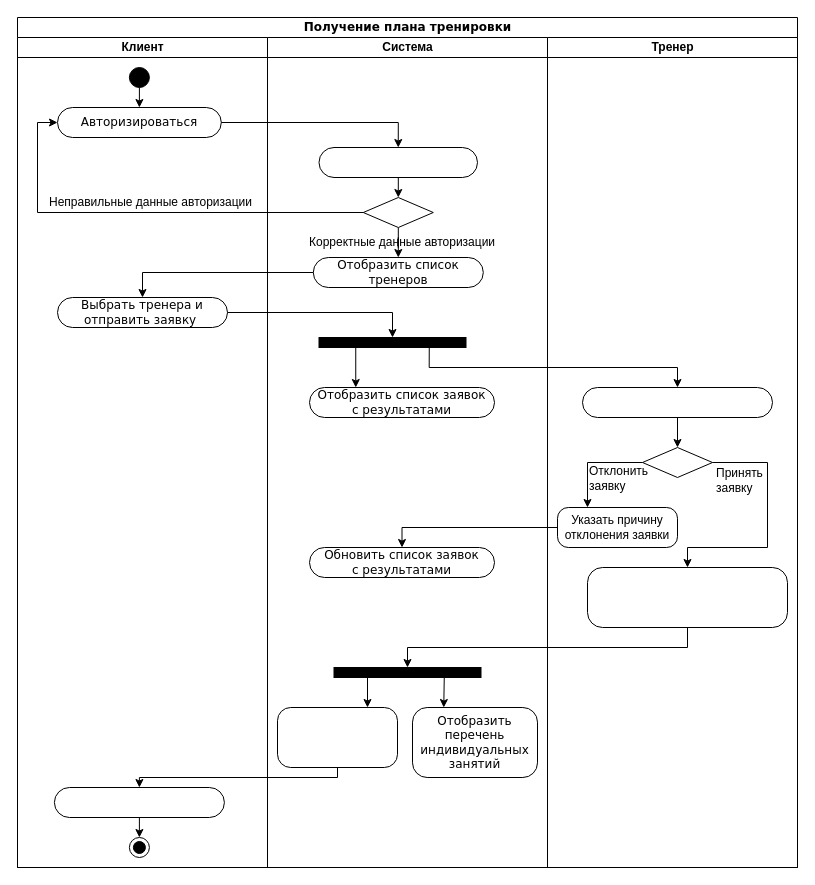
This 815x885 diagram has some shape labels left out. The centre of each missing label's shape, as x and y in pixels:
"Выставить план индивидуальных занятий для клиента" goes at [687,597].
"Отобразить план тренировок" goes at [337,737].
"Посмотреть новые заявки" goes at [677,402].
"Посмотреть план тренировок" goes at [138,802].
"Проверка телефона и пароля" goes at [398,162].
